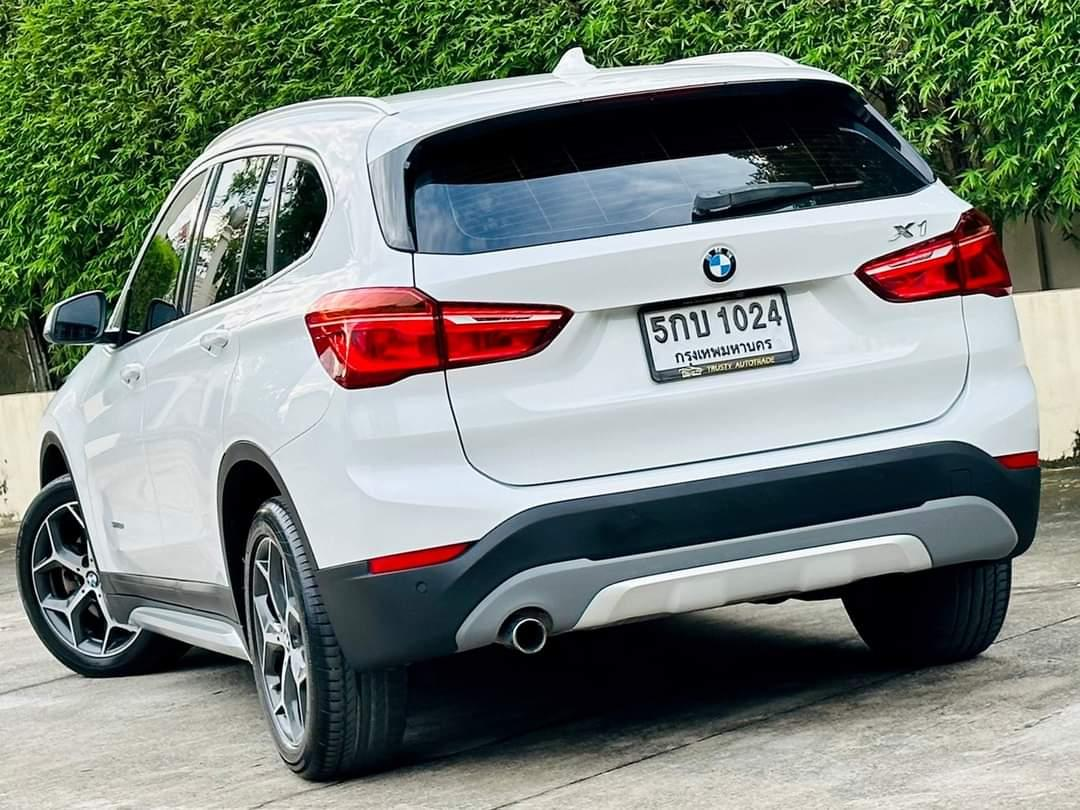license-plate: (634, 283, 801, 391)
